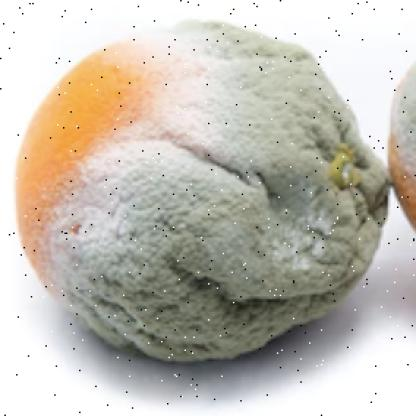rotten: (15, 26, 388, 365)
